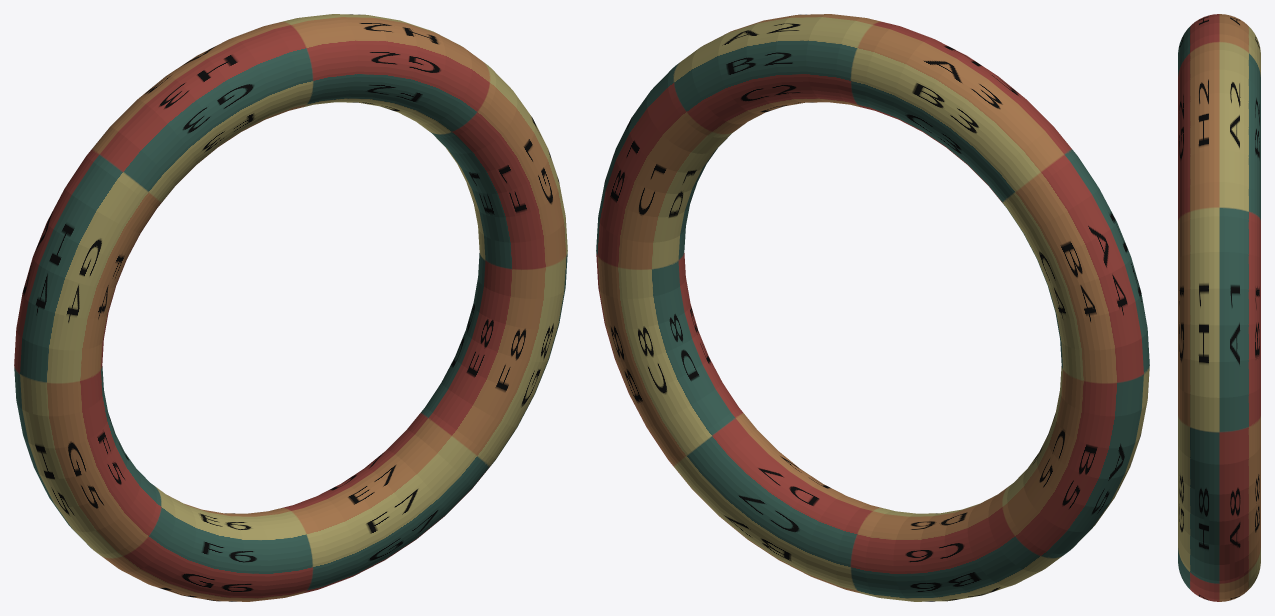
Rendered from texture_torus_R13_r4.glb.
3 views of the same model, side by side, from view 1: azimuth 30°, elevation 25°; view 2: azimuth 150°, elevation 25°; view 3: azimuth 270°, elevation 25° (orthographic). The views are drawn at different scales.
Visible parts, largest first — view 1: world; view 2: world; view 3: world.
Part boxes in pixels (<box>): world: <box>14,14,567,601</box>; world: <box>596,14,1149,601</box>; world: <box>1178,14,1260,601</box>.
Size of the model in its own units: 21.73 by 21.69 by 3.06.
1 material, 1 textured.
